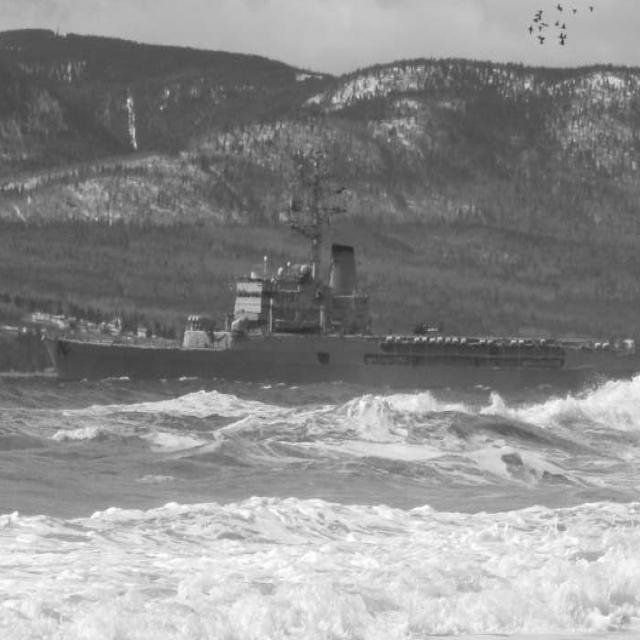Portanaves: (30, 153, 640, 404)
